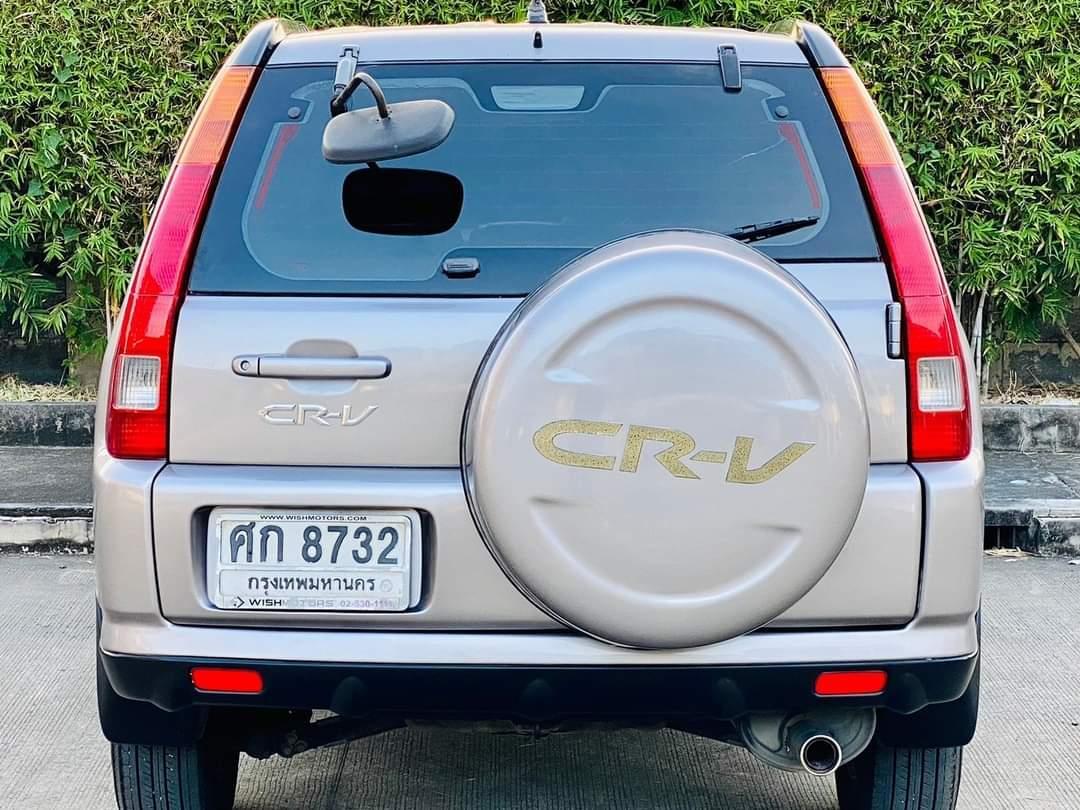license-plate: (212, 503, 426, 617)
